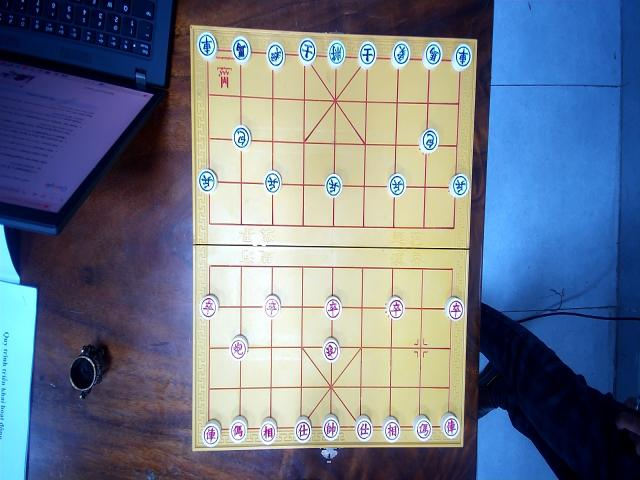piece: (196, 30, 218, 60), (451, 43, 473, 71), (231, 35, 251, 65), (448, 172, 470, 199), (326, 39, 346, 68), (266, 41, 286, 70), (390, 41, 410, 69), (422, 42, 442, 70), (357, 40, 377, 68), (444, 295, 464, 322), (440, 412, 460, 439), (200, 294, 220, 321), (198, 168, 218, 194), (412, 415, 432, 441), (201, 420, 221, 446), (382, 416, 401, 443), (229, 416, 248, 443), (299, 38, 317, 66), (418, 129, 438, 154), (354, 415, 373, 441), (322, 414, 340, 441), (294, 416, 312, 443), (259, 417, 277, 444), (387, 172, 406, 197), (232, 124, 250, 150), (322, 338, 340, 364), (230, 335, 248, 361), (386, 295, 404, 320), (263, 294, 281, 319), (324, 173, 342, 197), (263, 170, 281, 194), (324, 296, 342, 320)
